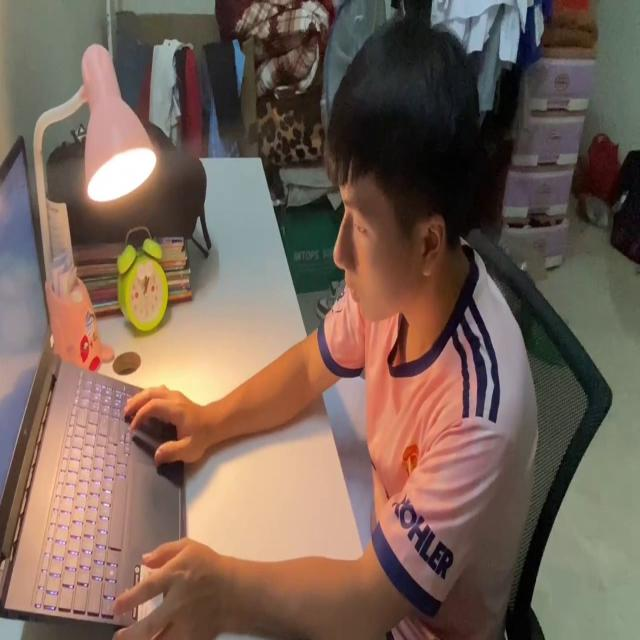book: (318, 372, 374, 556)
laptop: (1, 126, 188, 640)
student: (115, 17, 539, 640)
